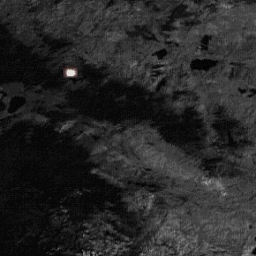Target: (64, 67, 77, 77)
